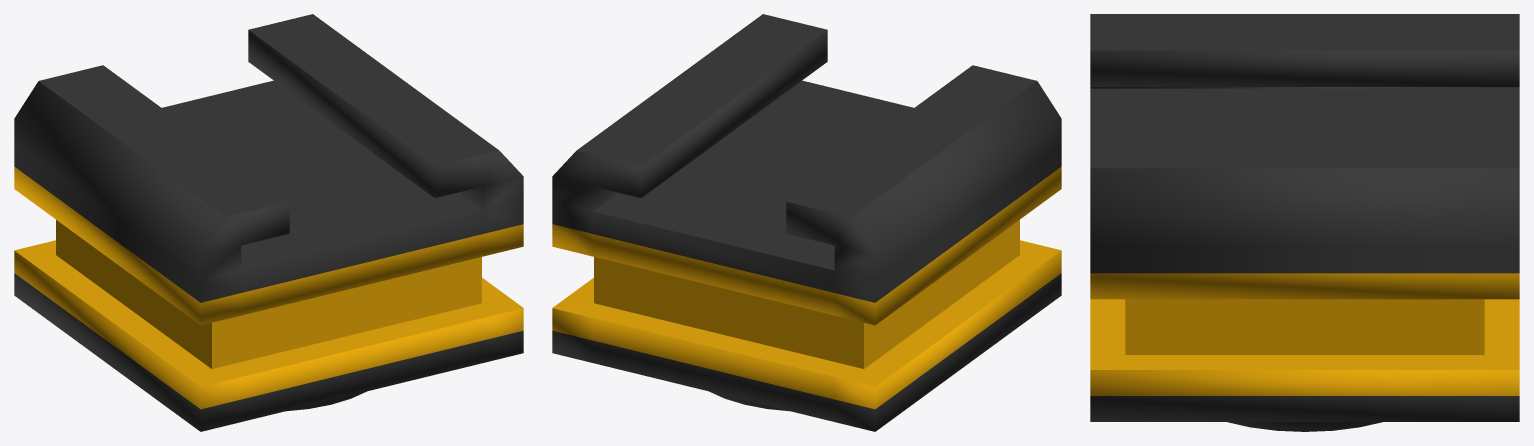
The model's file is Crane_Forklift_Base.fbx.
3 views of the same model, side by side, from view 1: azimuth 30°, elevation 25°; view 2: azimuth 150°, elevation 25°; view 3: azimuth 270°, elevation 25° (orthographic). The views are drawn at different scales.
Parts seen in each view (by area): view 1: ForkliftCrane_Base; view 2: ForkliftCrane_Base; view 3: ForkliftCrane_Base.
Part boxes in pixels (<box>): ForkliftCrane_Base: <box>14,14,523,431</box>; ForkliftCrane_Base: <box>552,14,1061,431</box>; ForkliftCrane_Base: <box>1090,14,1519,431</box>.
Size of the model in its own units: 91.44 by 65.87 by 91.44.
